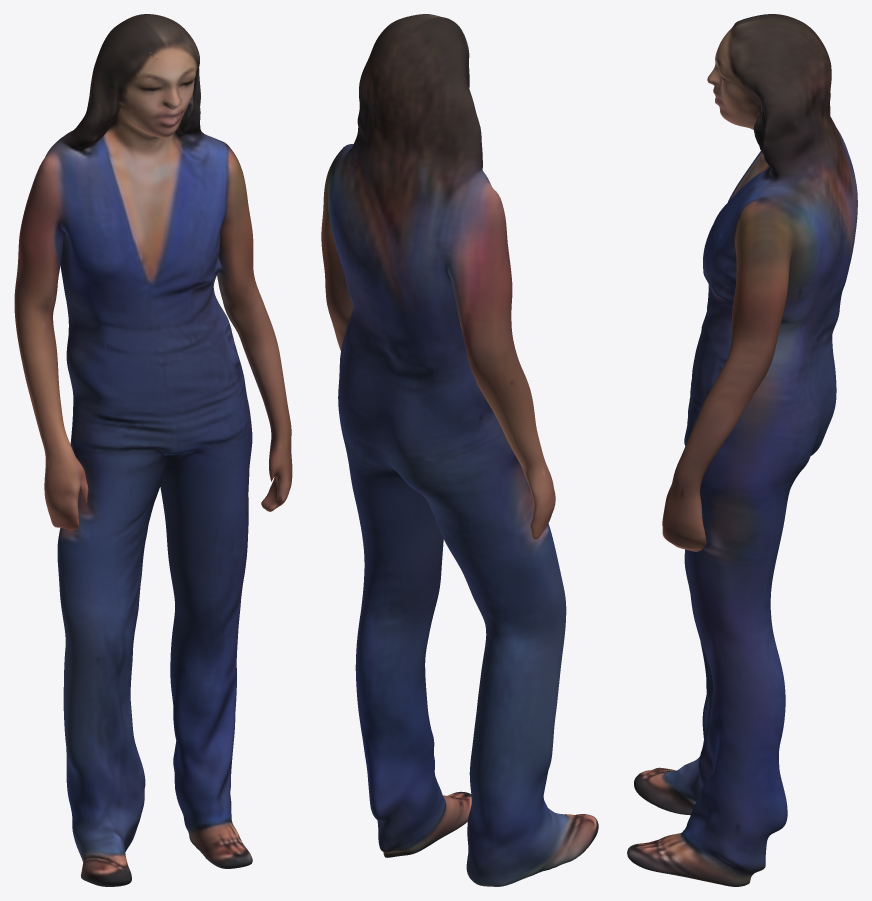
Rendered from sample_01.glb.
3 views of the same model, side by side, from view 1: azimuth 30°, elevation 25°; view 2: azimuth 150°, elevation 25°; view 3: azimuth 270°, elevation 25° (orthographic). The views are drawn at different scales.
Size of the model in its own units: 0.4941 by 1.78 by 0.4424.
Materials: 1 (1 with a texture image).
